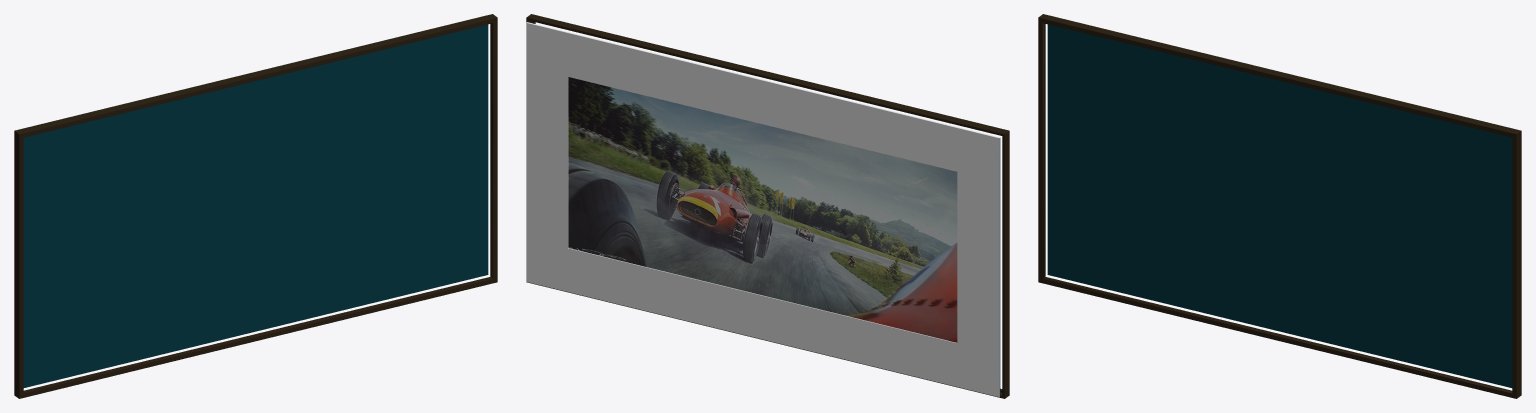
File: art_maserati_250_f-scaled.glb
3 views of the same model, side by side, from view 1: azimuth 30°, elevation 25°; view 2: azimuth 150°, elevation 25°; view 3: azimuth 330°, elevation 25° (orthographic).
Parts seen in each view (by area): view 1: glass, frame; view 2: artwork, carton, frame, glass; view 3: glass, frame.
Part boxes in pixels (x1,y1,x2,y2): glass: (23,24,488,387); frame: (14,14,497,398); artwork: (568,77,957,342); carton: (526,22,999,396); frame: (526,14,1009,398); glass: (999,138,1000,396); glass: (1047,24,1512,387); frame: (1038,14,1521,398).
Size of the model in its own units: 131 by 69.18 by 3.66.
4 materials, 1 textured.
